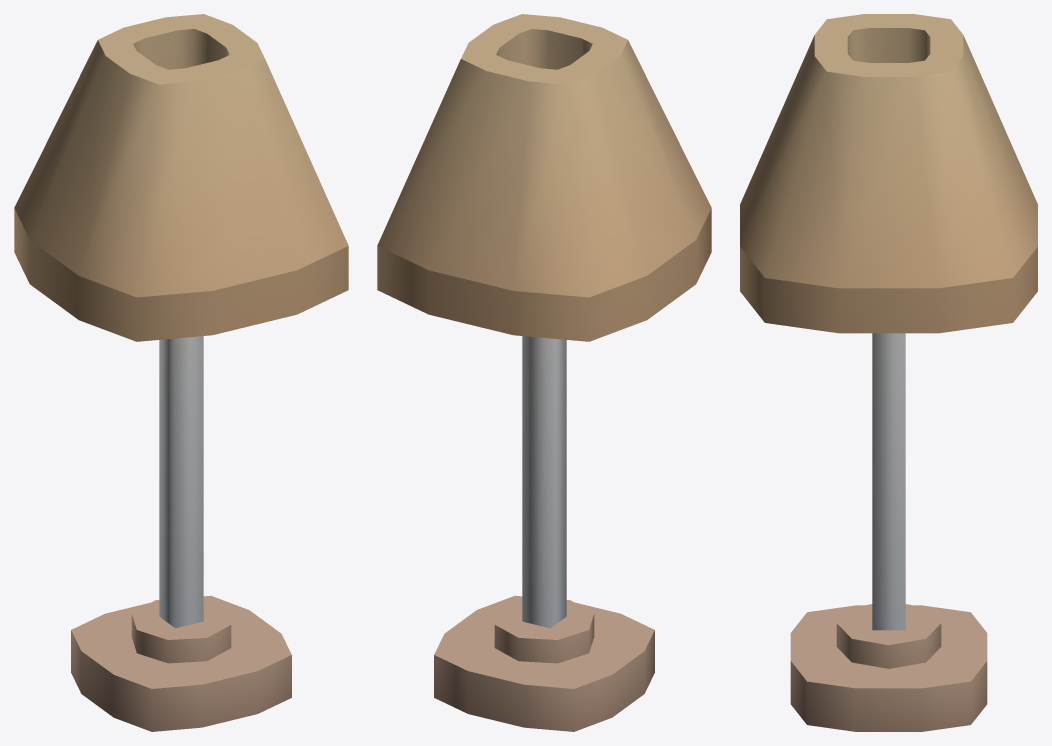
The model's file is lamp-standard-table (%thumbnail).glb.
3 renders of one model, left to right at view 1: azimuth 30°, elevation 25°; view 2: azimuth 150°, elevation 25°; view 3: azimuth 270°, elevation 25°, orthographic.
Visible parts, largest first — view 1: lamp-standard-table (%thumbnail); view 2: lamp-standard-table (%thumbnail); view 3: lamp-standard-table (%thumbnail).
Part boxes in pixels (left/top/right/bottom): lamp-standard-table (%thumbnail): left=14, top=14, right=348, bottom=731; lamp-standard-table (%thumbnail): left=377, top=14, right=711, bottom=731; lamp-standard-table (%thumbnail): left=740, top=14, right=1037, bottom=731.
Size of the model in its own units: 0.225 by 0.5375 by 0.225.
